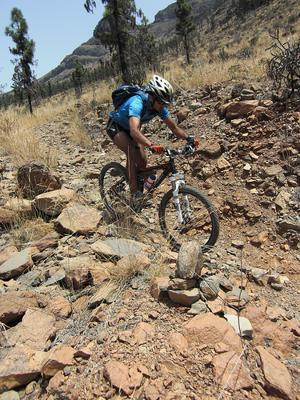person: (107, 76, 200, 209)
